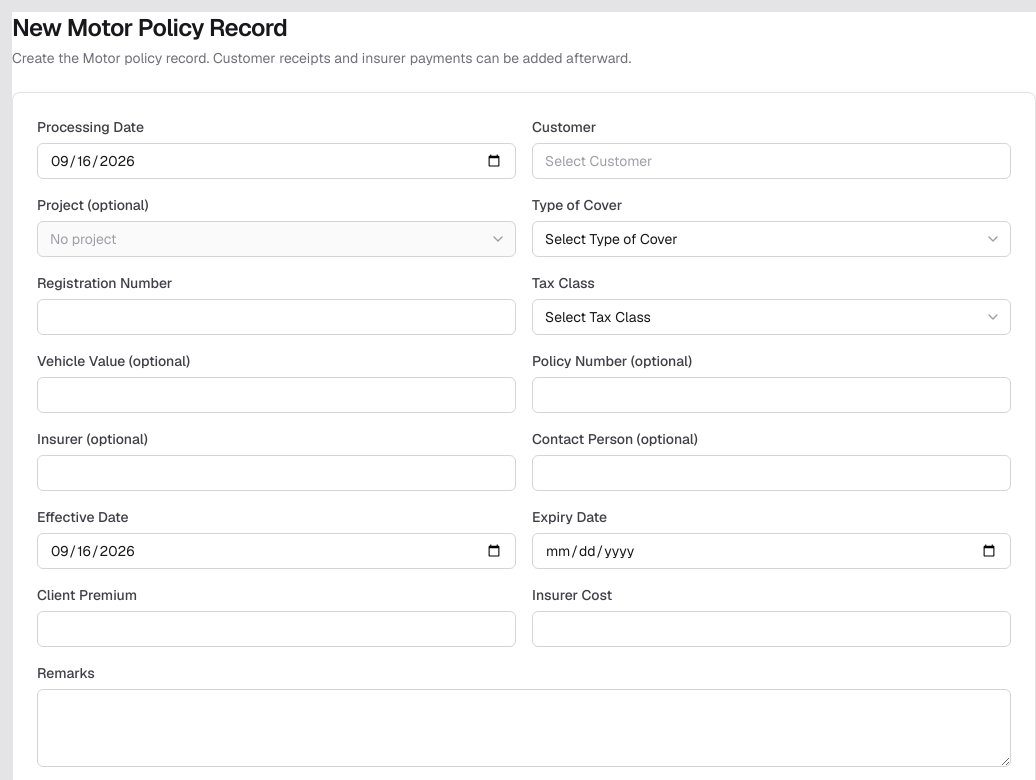
Test: Motor Policy create form — Customer SearchableSelect › shows the localized no-results label when nothing matches
Type "no such customer" into the field with placeholder "Select Customer" at (772, 161), box [532,143,1011,179]
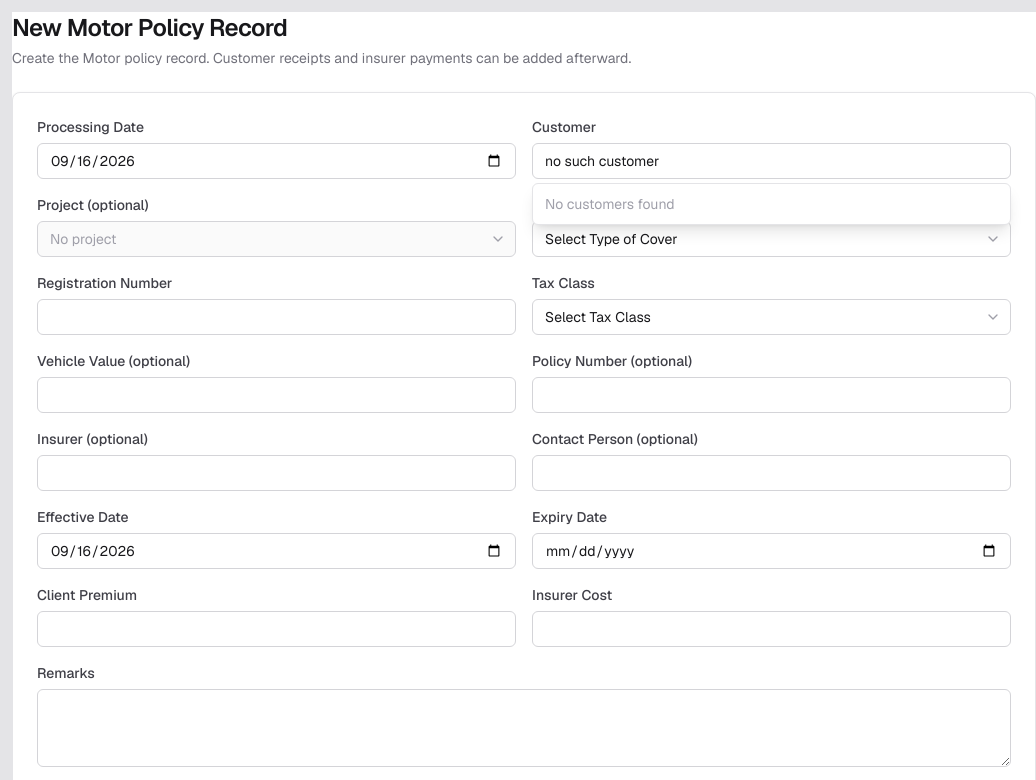
Check: the list item "No customers found" is shown, box [545,195,675,213]
